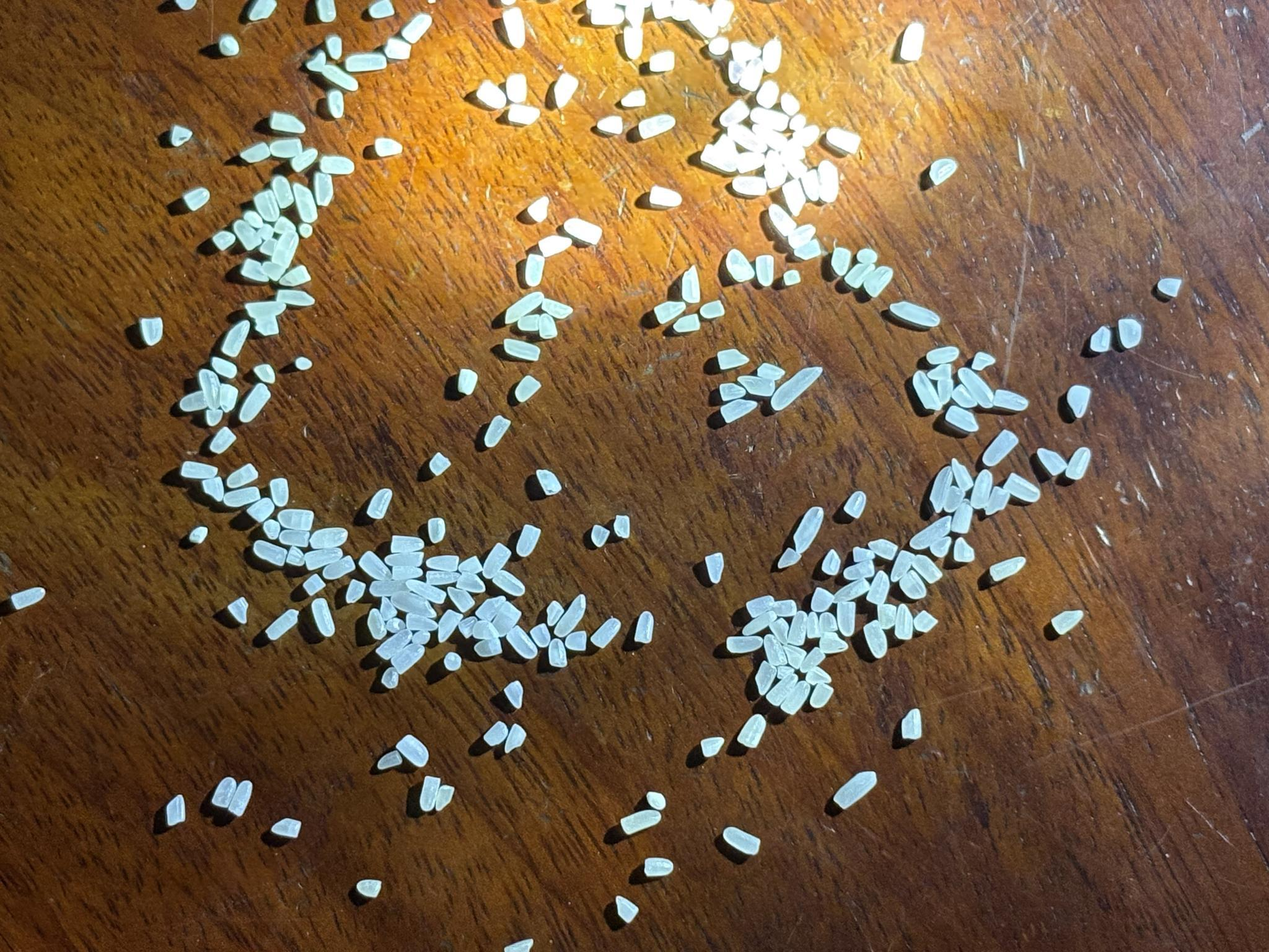Rice-th-y-nh: (769, 361, 823, 415), (832, 765, 878, 813), (889, 293, 941, 335), (909, 510, 953, 555), (790, 504, 827, 557), (551, 592, 590, 641), (956, 364, 996, 410), (981, 426, 1020, 471), (503, 287, 545, 328), (909, 368, 944, 414), (1002, 468, 1041, 509), (394, 731, 432, 772), (619, 803, 661, 840), (269, 229, 302, 276), (924, 465, 956, 513), (727, 120, 767, 158), (563, 211, 603, 249), (812, 159, 845, 205), (344, 46, 388, 80), (389, 589, 437, 620), (498, 5, 531, 50), (375, 624, 412, 664), (238, 381, 272, 424), (289, 181, 322, 225), (719, 392, 758, 429), (356, 549, 396, 585), (504, 623, 540, 663), (750, 101, 791, 136), (723, 246, 757, 288), (218, 317, 252, 359), (896, 21, 929, 64), (638, 108, 676, 145), (685, 0, 721, 39), (860, 619, 893, 661), (480, 540, 513, 582), (989, 550, 1026, 587), (700, 141, 738, 177), (250, 186, 284, 226), (861, 262, 895, 302), (735, 711, 769, 751), (319, 61, 360, 94), (721, 824, 762, 857), (490, 599, 523, 640), (759, 149, 791, 191), (390, 640, 426, 677), (751, 120, 790, 154), (779, 679, 812, 719), (307, 597, 339, 638), (966, 468, 997, 510), (764, 670, 799, 707), (194, 368, 224, 411), (824, 124, 863, 157), (244, 295, 286, 325), (738, 369, 776, 402), (503, 334, 541, 367), (266, 172, 298, 211), (832, 575, 871, 607), (225, 779, 257, 818), (304, 543, 343, 575), (779, 177, 810, 217), (1063, 381, 1094, 421), (309, 522, 349, 553), (405, 576, 446, 606), (909, 551, 944, 586), (896, 568, 930, 604), (400, 10, 434, 46), (1035, 443, 1069, 479), (731, 170, 769, 202), (550, 71, 581, 110), (276, 503, 315, 534), (652, 295, 687, 329), (275, 283, 316, 312), (264, 608, 300, 641), (718, 96, 751, 132), (475, 77, 508, 113), (766, 201, 798, 238), (992, 384, 1029, 416), (726, 628, 764, 659), (1063, 445, 1094, 483), (864, 569, 894, 608), (415, 773, 444, 813), (676, 265, 705, 305), (1050, 605, 1084, 639), (1114, 315, 1146, 351), (513, 522, 544, 559), (741, 608, 778, 639), (231, 218, 263, 253), (648, 180, 683, 212), (927, 153, 959, 188), (711, 132, 742, 168), (737, 56, 767, 93), (889, 603, 918, 641), (832, 599, 860, 638), (589, 616, 622, 649), (715, 344, 749, 376), (759, 633, 790, 668), (537, 230, 572, 261), (506, 99, 541, 130), (482, 414, 512, 450), (948, 500, 977, 537), (751, 660, 780, 697), (947, 457, 976, 494), (589, 2, 626, 31), (309, 170, 337, 208), (758, 37, 786, 75), (982, 484, 1012, 519), (619, 25, 648, 61), (888, 548, 917, 584), (944, 405, 980, 434), (319, 151, 355, 180), (269, 133, 305, 162), (369, 575, 409, 601), (520, 252, 548, 289), (251, 539, 288, 567), (658, 0, 703, 23), (744, 589, 776, 621), (541, 293, 574, 324), (843, 556, 877, 586), (209, 775, 239, 809), (491, 569, 526, 598), (389, 529, 424, 558), (784, 609, 810, 648), (424, 565, 460, 593), (386, 546, 426, 571), (474, 593, 506, 624), (926, 341, 960, 370), (502, 71, 531, 105), (513, 372, 542, 406), (898, 707, 926, 742), (436, 609, 464, 644), (630, 610, 658, 645), (798, 166, 824, 203), (843, 259, 875, 289), (734, 147, 766, 177), (382, 33, 414, 63), (790, 121, 822, 151), (279, 261, 311, 291), (239, 138, 271, 168), (867, 535, 900, 564), (612, 893, 641, 926), (323, 554, 357, 582), (269, 110, 307, 135), (425, 549, 460, 576), (643, 852, 674, 882), (446, 584, 476, 615), (818, 628, 849, 658), (182, 183, 212, 214), (621, 0, 653, 29), (707, 0, 739, 29), (841, 488, 869, 521), (751, 253, 778, 287), (701, 550, 728, 584), (366, 487, 393, 521), (266, 475, 293, 509), (787, 220, 816, 251), (648, 46, 677, 77), (778, 137, 807, 168), (179, 460, 218, 483), (808, 584, 836, 616), (729, 37, 761, 65), (271, 814, 303, 842), (828, 245, 855, 278), (226, 462, 259, 489), (162, 794, 189, 827), (363, 607, 389, 641), (223, 486, 261, 509), (289, 145, 319, 174), (178, 388, 209, 416), (10, 586, 46, 610), (1087, 324, 1114, 356), (754, 78, 781, 110), (544, 637, 571, 669), (238, 257, 270, 284), (390, 560, 423, 586), (501, 678, 527, 711), (404, 610, 438, 635), (794, 235, 823, 264), (798, 646, 827, 675), (246, 496, 276, 524), (373, 133, 403, 161), (525, 194, 552, 225), (874, 600, 900, 632), (323, 87, 348, 120), (278, 526, 312, 550), (717, 378, 746, 406), (534, 468, 563, 496), (1156, 273, 1185, 301), (471, 617, 500, 645), (215, 382, 241, 413), (455, 570, 486, 596), (454, 366, 480, 397), (768, 616, 793, 648), (941, 484, 966, 516), (310, 0, 342, 25), (432, 782, 457, 814), (209, 426, 237, 454), (672, 310, 701, 337), (949, 384, 978, 411), (951, 536, 977, 566), (808, 680, 834, 710), (473, 636, 504, 661), (646, 0, 681, 22), (503, 723, 527, 755), (482, 720, 509, 748), (912, 607, 939, 635), (620, 85, 648, 112), (781, 643, 808, 671), (528, 620, 553, 650), (209, 355, 239, 380), (755, 360, 786, 384), (564, 627, 590, 655), (699, 298, 727, 324), (969, 348, 997, 374), (355, 875, 383, 901), (819, 547, 843, 577), (536, 312, 560, 342), (424, 515, 448, 545), (366, 0, 397, 23), (699, 733, 726, 759), (776, 545, 802, 572), (783, 154, 809, 181), (770, 596, 799, 620), (933, 375, 956, 405), (247, 0, 278, 22), (597, 112, 623, 138), (816, 609, 840, 637), (517, 311, 545, 335), (226, 596, 250, 624), (344, 577, 368, 605), (544, 599, 567, 628), (926, 361, 955, 384), (928, 535, 953, 561), (201, 476, 226, 502), (211, 228, 237, 253), (376, 748, 403, 772), (260, 258, 287, 282), (588, 522, 612, 549), (804, 666, 832, 689), (376, 596, 399, 624), (803, 611, 825, 640), (323, 32, 345, 61), (252, 361, 277, 386), (428, 452, 452, 478), (458, 553, 484, 577), (254, 315, 281, 338), (707, 33, 731, 58), (779, 91, 802, 117), (851, 543, 876, 566), (302, 573, 327, 596), (379, 665, 401, 691), (725, 58, 747, 84), (306, 51, 329, 75), (272, 214, 296, 237), (611, 514, 633, 539), (457, 613, 479, 638), (856, 245, 879, 267), (284, 544, 306, 567), (645, 790, 668, 812), (442, 650, 463, 674), (242, 208, 265, 229), (202, 407, 225, 428), (261, 517, 282, 540), (502, 937, 534, 952), (781, 267, 802, 289), (788, 112, 809, 133), (259, 236, 280, 257), (385, 615, 407, 635), (256, 223, 276, 243), (188, 526, 209, 545), (584, 0, 617, 12), (296, 220, 315, 240), (411, 628, 432, 646), (169, 0, 200, 11), (293, 355, 313, 372)
